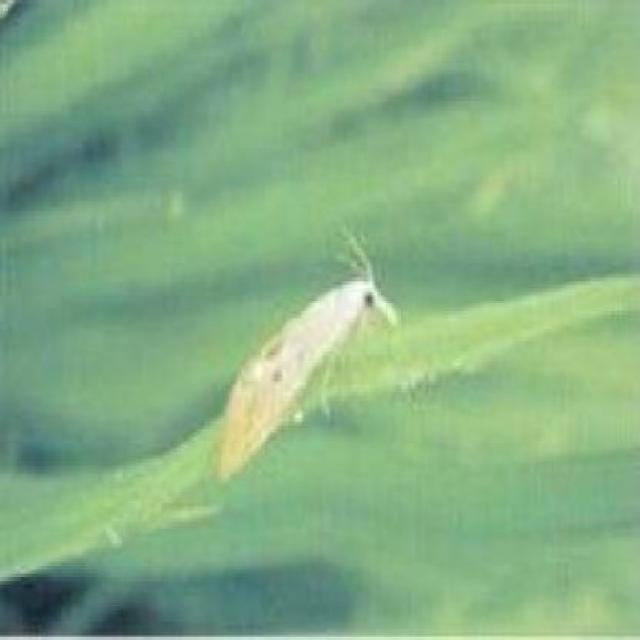stem-borer: (214, 228, 400, 484)
